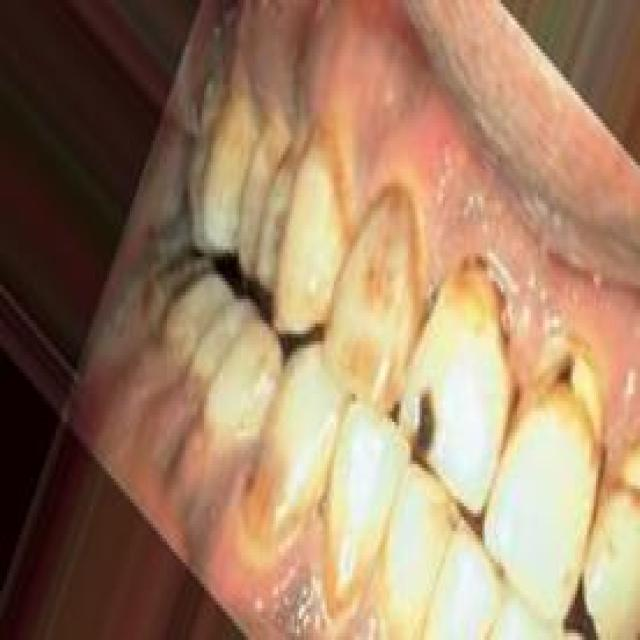caries: (518, 325, 610, 452), (405, 377, 452, 461)
